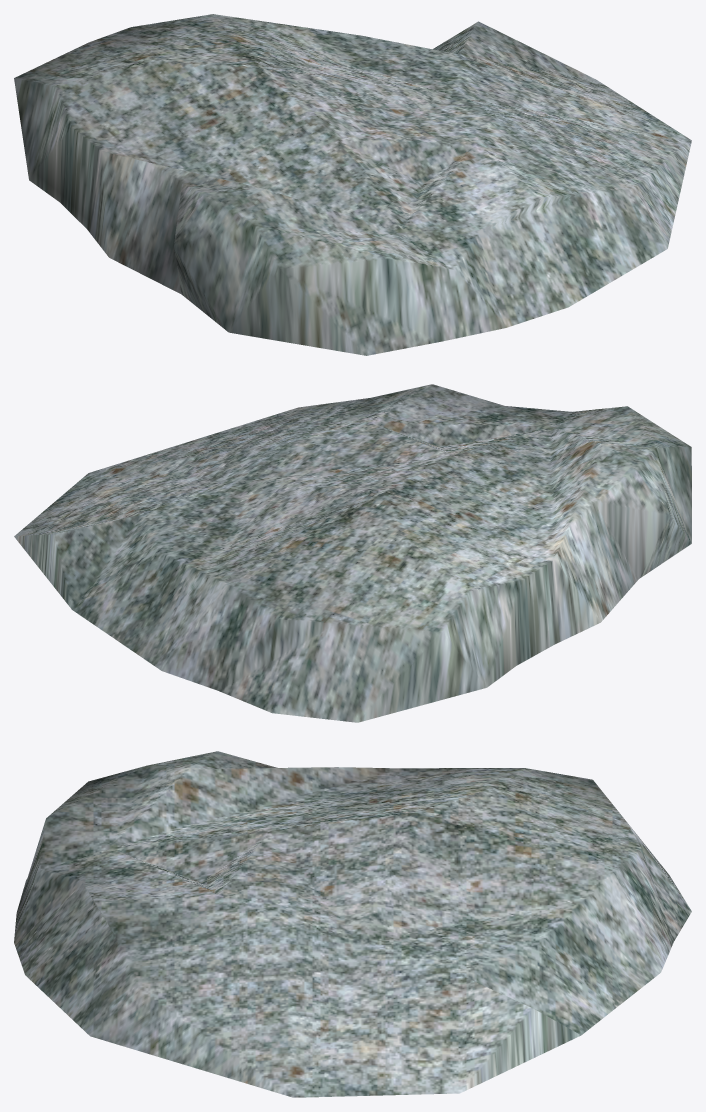
Rendered from rock_graniteslab_medium_a2_l0.fbx.
The picture shows the model from 3 angles, top to bottom: view 1: azimuth 30°, elevation 25°; view 2: azimuth 150°, elevation 25°; view 3: azimuth 270°, elevation 25°; orthographic projection. The views are drawn at different scales.
Visible parts, largest first — view 1: mesh_node; view 2: mesh_node; view 3: mesh_node.
Part boxes in pixels (x1,y1,x2,y2): mesh_node: [14, 14, 691, 355]; mesh_node: [14, 384, 691, 722]; mesh_node: [14, 751, 691, 1097].
Bounding box in the file's own units: 1.51 × 0.2976 × 1.64.
